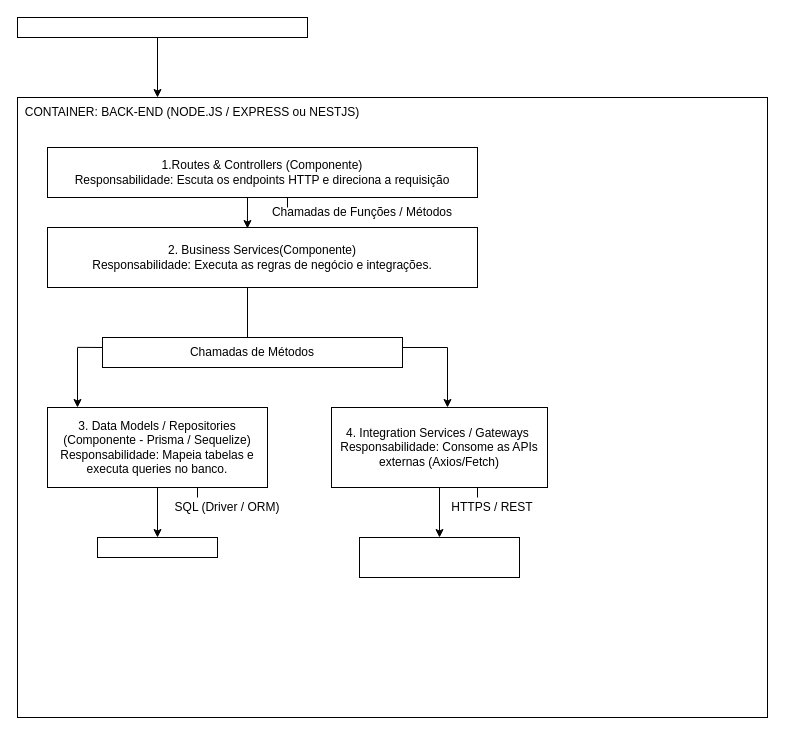
Image size: 785x735. Some labels were removed from this diagram. The box of each missing label's shape, as (x1, y1, x2, y2) in pixels:
APIs Externas (Maps, WhatsApp, M. Pago): (358, 536, 520, 578)
Container: MySQL: (96, 536, 218, 558)
Container:Front-end (React): (16, 16, 308, 38)
